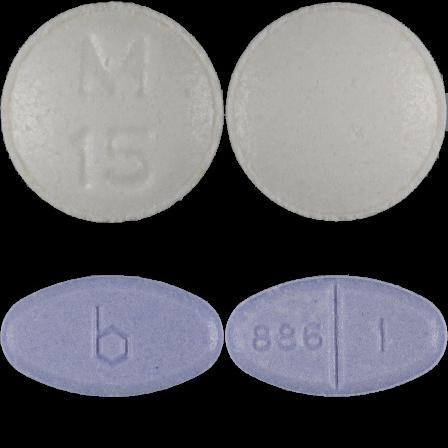66267-082: (0, 0, 224, 224)
